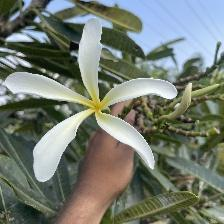champaka: (2, 20, 179, 185)
